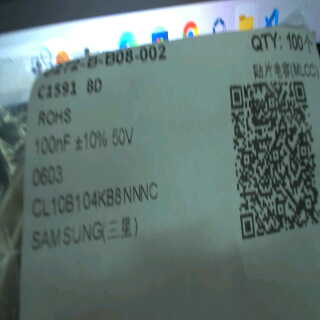100nF: (33, 131, 72, 158)
